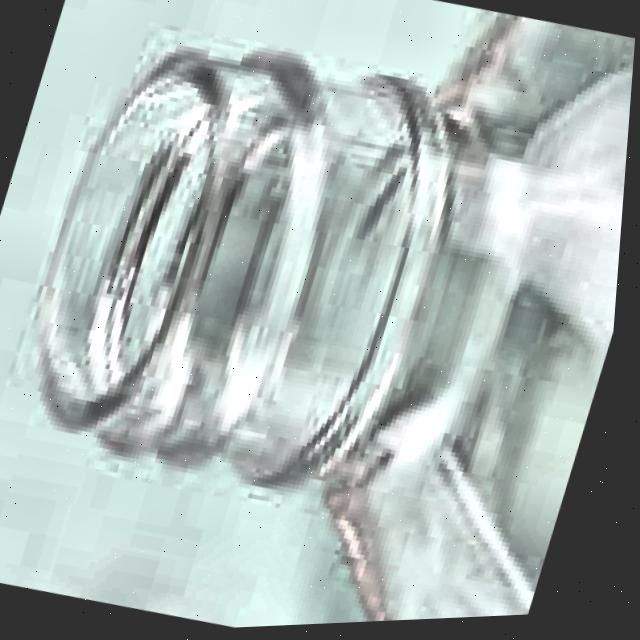glass: (35, 14, 636, 625)
